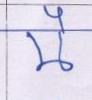ai_matra: (43, 6, 70, 29)
